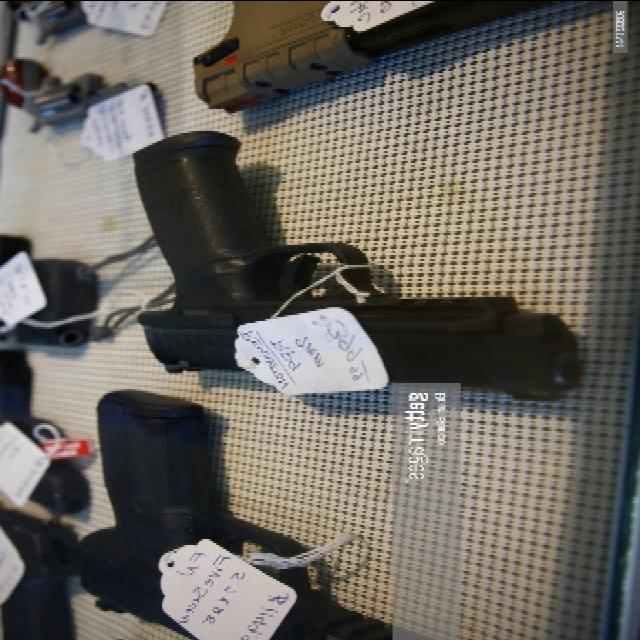handgun: (125, 125, 580, 393)
